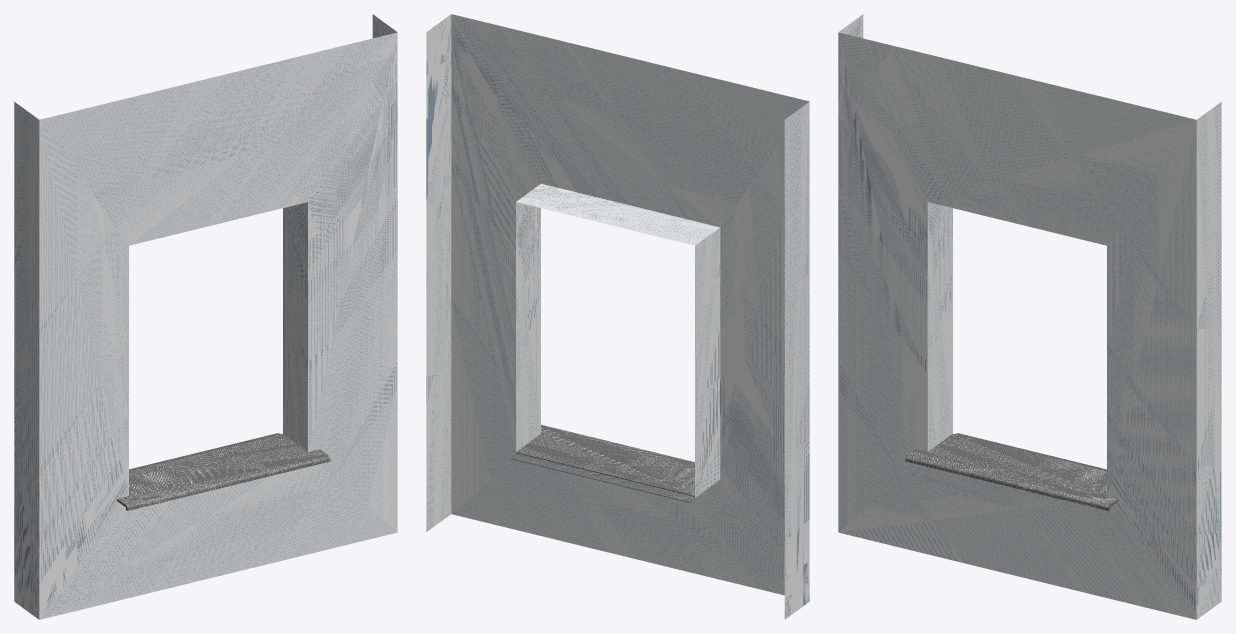
File: WindowBlock_os_plinth_[300x400]_150x200x[080].dae
The picture shows the model from 3 angles, left to right: view 1: azimuth 30°, elevation 25°; view 2: azimuth 150°, elevation 25°; view 3: azimuth 330°, elevation 25°; orthographic projection.
Parts seen in each view (by area): view 1: group_2 (×2), group_1; view 2: group_2 (×2), group_1 (×2); view 3: group_2 (×2), group_1.
Boxes of the visible parts, bbox=[...] form: group_2 (×2): bbox=[14, 14, 397, 619]; group_1: bbox=[117, 434, 330, 510]; group_2 (×2): bbox=[426, 14, 809, 619]; group_1 (×2): bbox=[511, 424, 694, 502]; group_2 (×2): bbox=[838, 14, 1221, 619]; group_1: bbox=[905, 434, 1118, 510].
Size of the model in its own units: 118 by 23.03 by 157.
